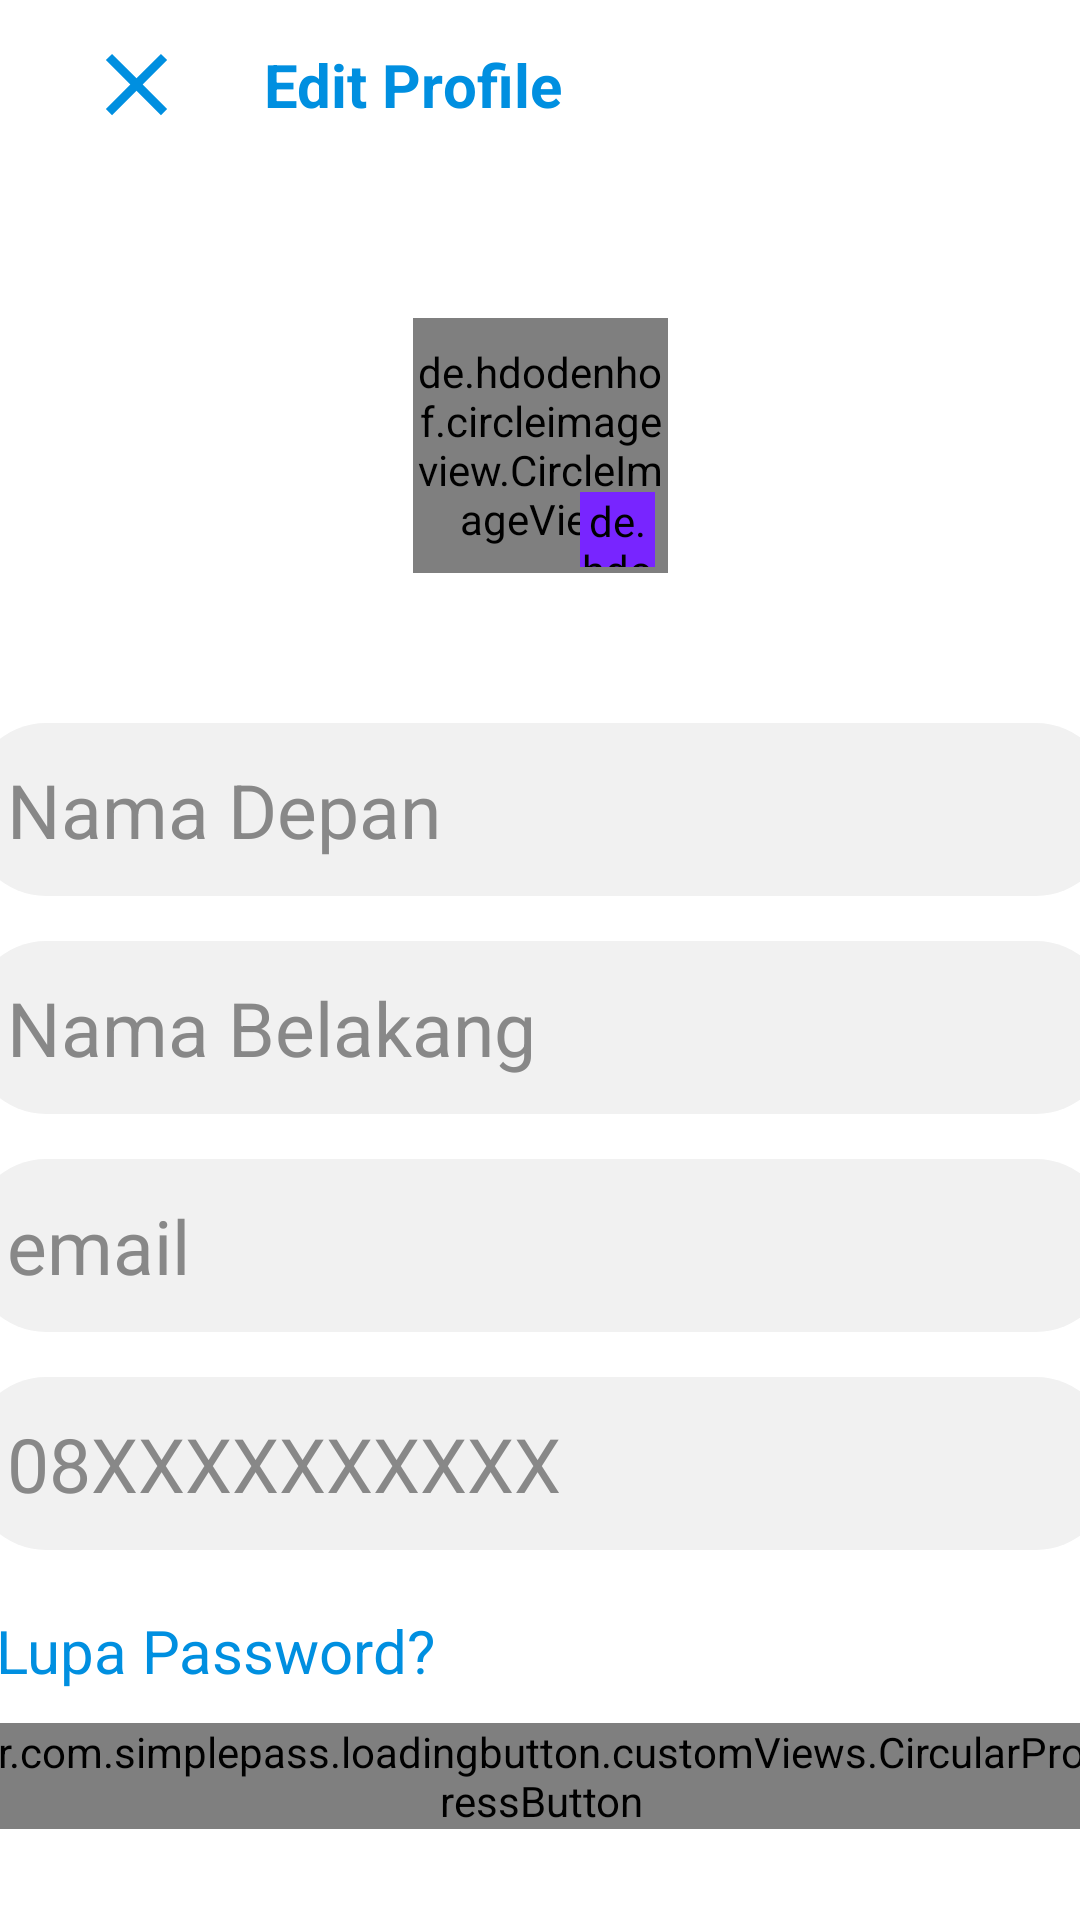

Point at icon controls on the screen. Image size 1080 x 1920, points as (x=x, y=y).
close: (x=136, y=84)
